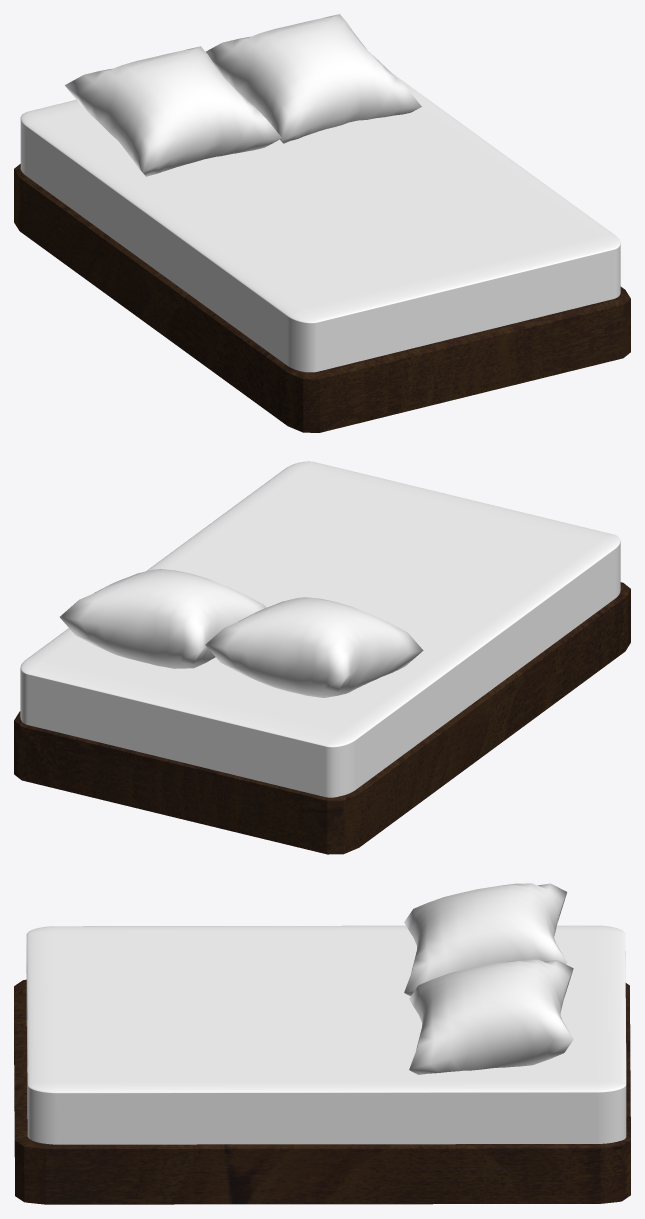
The model's file is clean room 2.0.glb.
3 views of the same model, one above another, from view 1: azimuth 30°, elevation 25°; view 2: azimuth 150°, elevation 25°; view 3: azimuth 270°, elevation 25° (orthographic). The views are drawn at different scales.
Visible parts, largest first — view 1: Cube.004, Cube.003, Plane, Plane.001; view 2: Cube.004, Cube.003, Plane, Plane.001; view 3: Cube.004, Cube.003, Plane.001, Plane.
Part boxes in pixels (<box>): Cube.004: <box>20,73,620,372</box>; Cube.003: <box>14,164,630,432</box>; Plane: <box>65,46,281,176</box>; Plane.001: <box>206,14,421,143</box>; Cube.004: <box>20,461,620,797</box>; Cube.003: <box>14,582,630,854</box>; Plane: <box>205,597,423,697</box>; Plane.001: <box>60,569,266,668</box>; Cube.004: <box>26,925,626,1144</box>; Cube.003: <box>14,979,630,1204</box>; Plane.001: <box>409,959,573,1074</box>; Plane: <box>404,883,567,996</box>.
Bounding box in the file's own units: 1.83 × 0.9366 × 2.78.
Materials: 4 (1 with a texture image).
